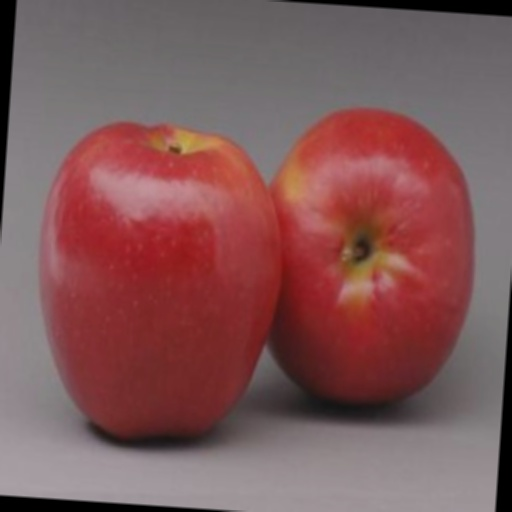fruit: (129, 82, 430, 357), (0, 115, 86, 496)
